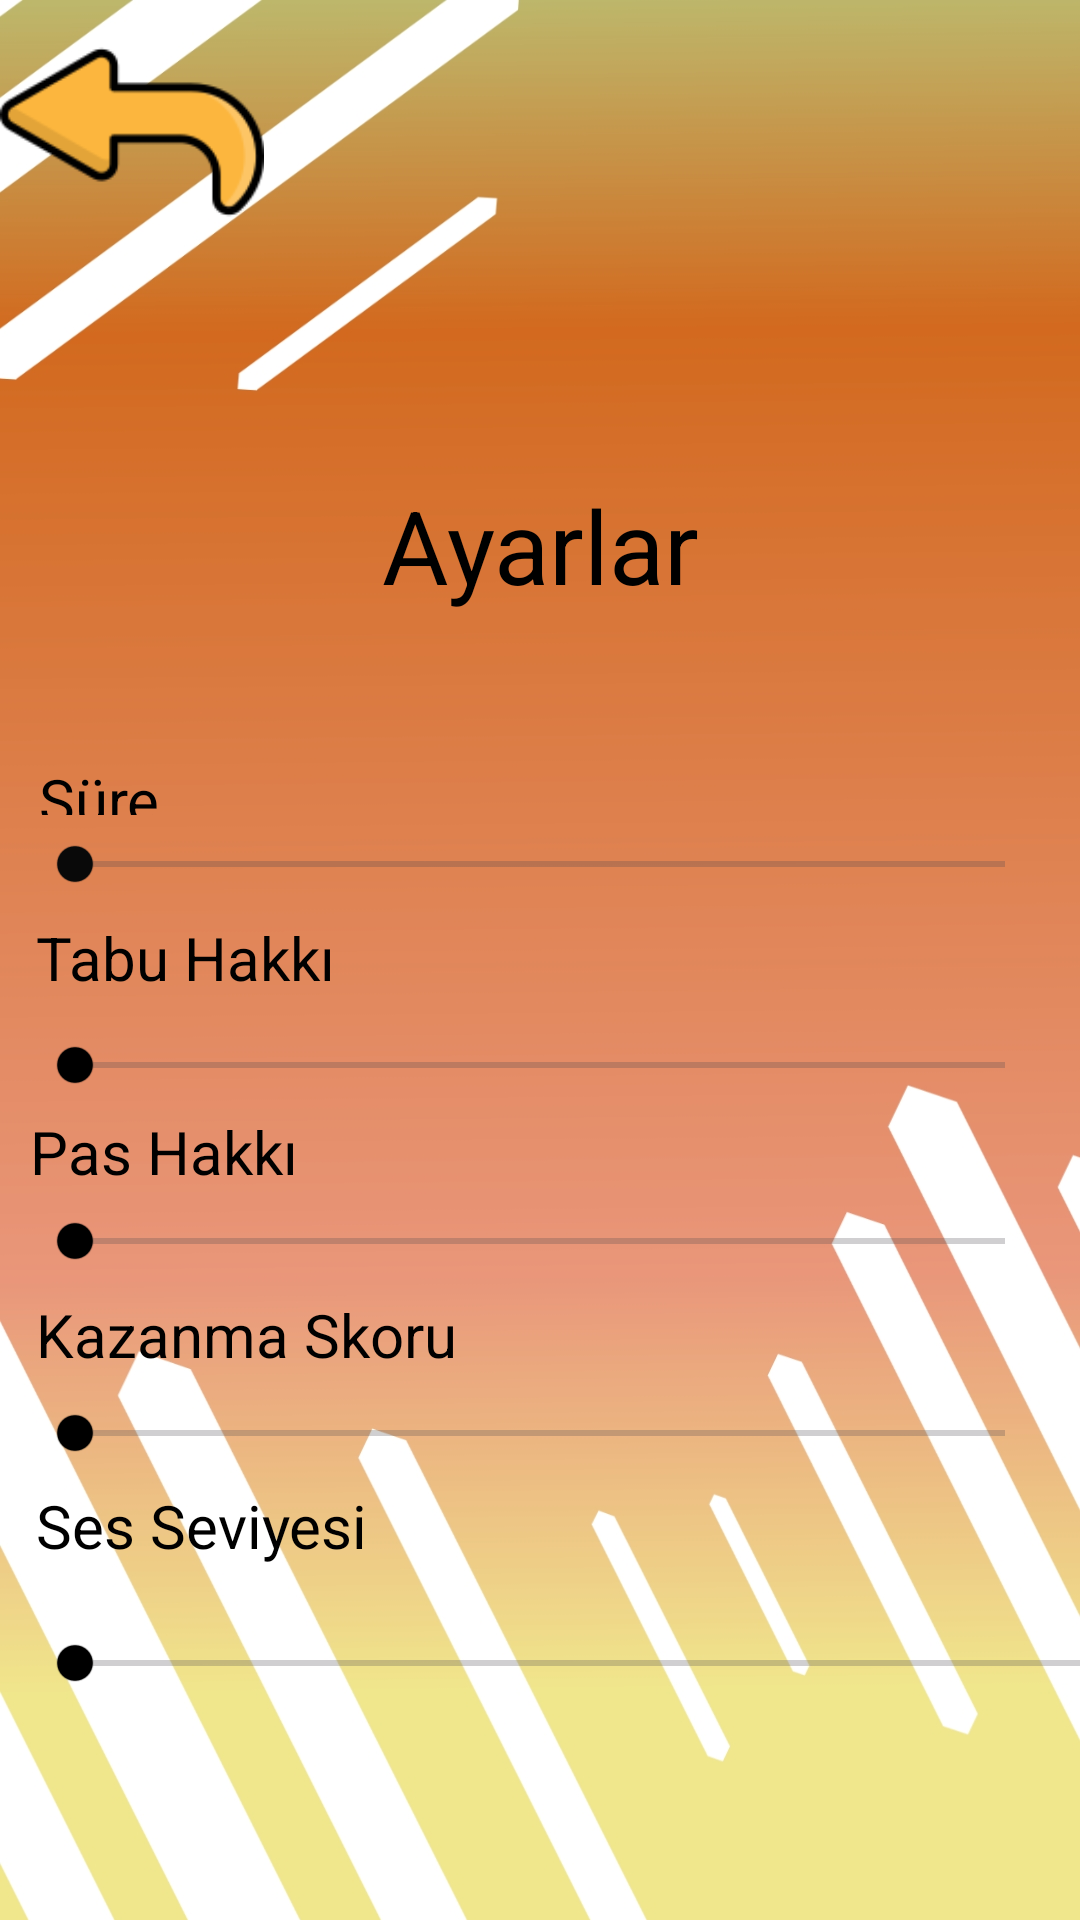

Screen size 1080×1920. Icon name, then its center in pixels as (x,y):
reply: (132,132)
